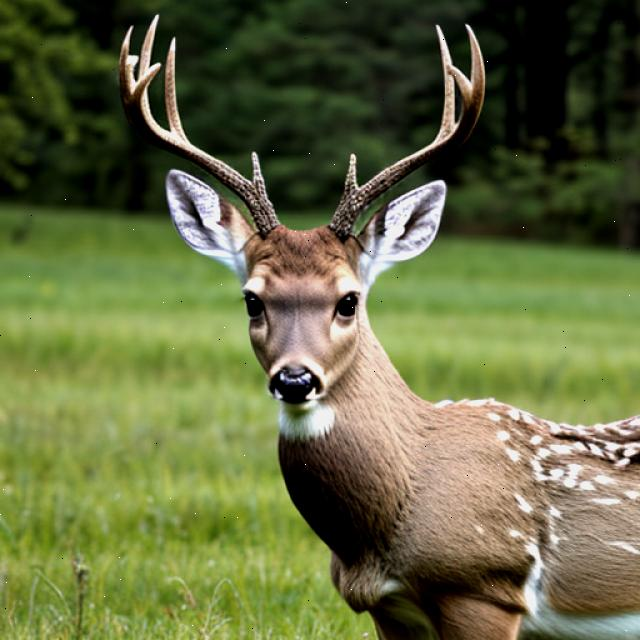deer: (74, 8, 618, 640)
